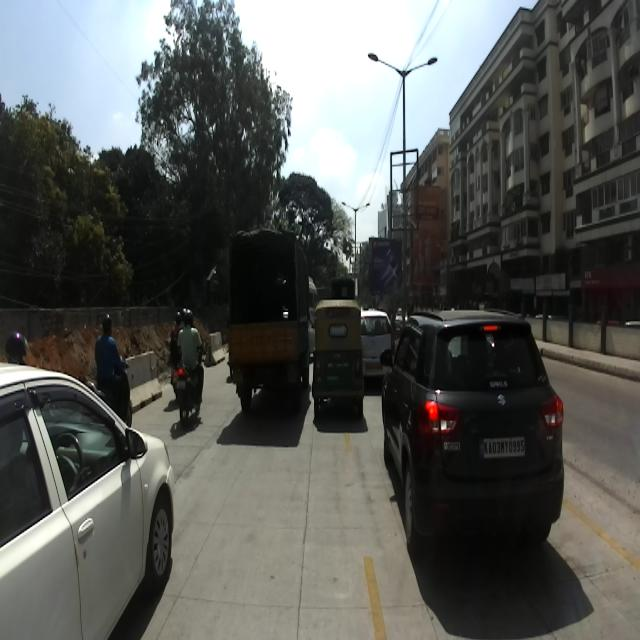auto ahead at: (312, 292, 368, 422)
car ahead at: (378, 306, 571, 574), (0, 359, 179, 640)
truck ahead at: (228, 228, 308, 412)
